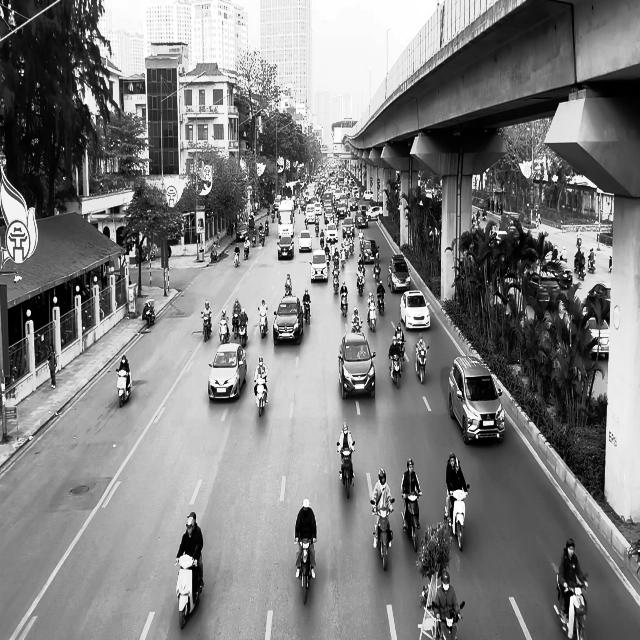car: (448, 355, 505, 444), (338, 332, 376, 399), (208, 343, 246, 401), (273, 294, 304, 346), (400, 290, 430, 330), (309, 250, 328, 282), (277, 235, 294, 260), (235, 222, 249, 241)
motorbike: (175, 552, 204, 630), (555, 572, 588, 639), (370, 498, 394, 572), (444, 484, 469, 550), (294, 536, 316, 604), (401, 492, 422, 552), (432, 601, 464, 639), (336, 441, 355, 499), (115, 369, 132, 407), (414, 344, 430, 384), (254, 375, 268, 417), (389, 354, 402, 388), (200, 312, 212, 342), (143, 299, 155, 327), (258, 308, 268, 338), (238, 320, 248, 347), (219, 319, 229, 344), (303, 301, 311, 325), (234, 250, 240, 267)
